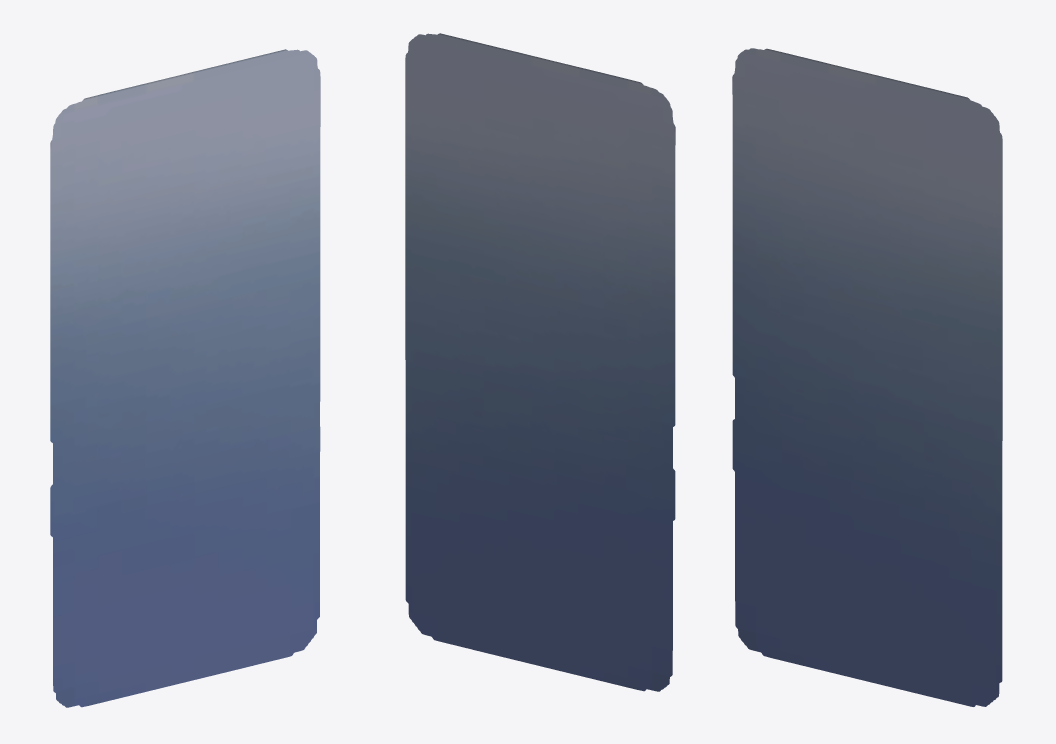
The model's file is Player_Lady_Yukong_LookAtPhone_00.fbx.
The picture shows the model from 3 angles, left to right: view 1: azimuth 30°, elevation 25°; view 2: azimuth 150°, elevation 25°; view 3: azimuth 330°, elevation 25°; orthographic projection.
Visible parts, largest first — view 1: LookAtPhone_00_Phone_Model; view 2: LookAtPhone_00_Phone_Model; view 3: LookAtPhone_00_Phone_Model.
Boxes of the visible parts, x1,y1,x2,y2 form: LookAtPhone_00_Phone_Model: (50,49,320,707); LookAtPhone_00_Phone_Model: (405,33,675,691); LookAtPhone_00_Phone_Model: (732,48,1002,706).
Size of the model in its own units: 0.0701 by 0.1411 by 0.00861.
1 material, 1 textured.
